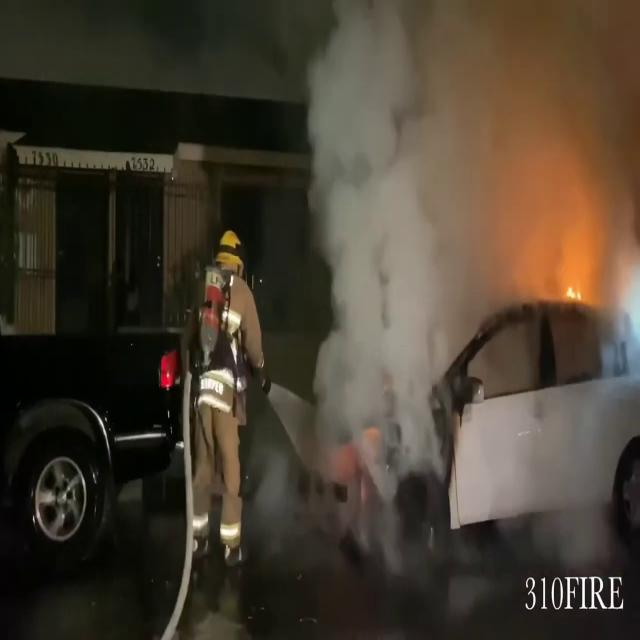Smoke: (252, 0, 640, 524)
